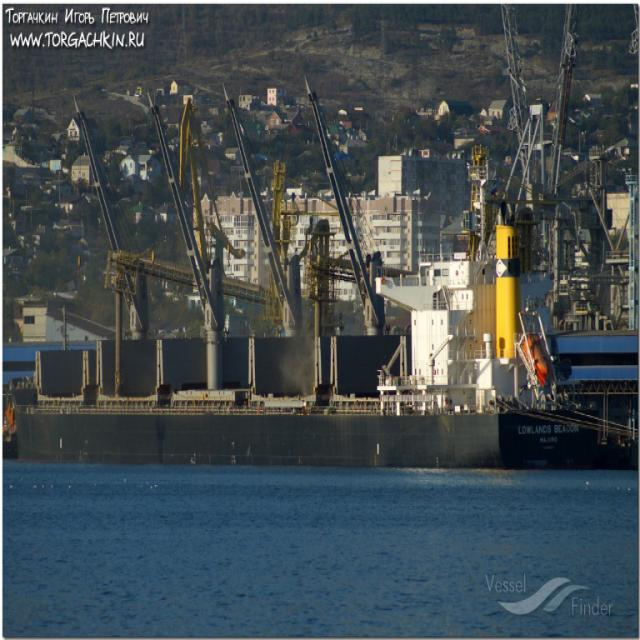Bulk Carrier: (11, 160, 580, 467)
